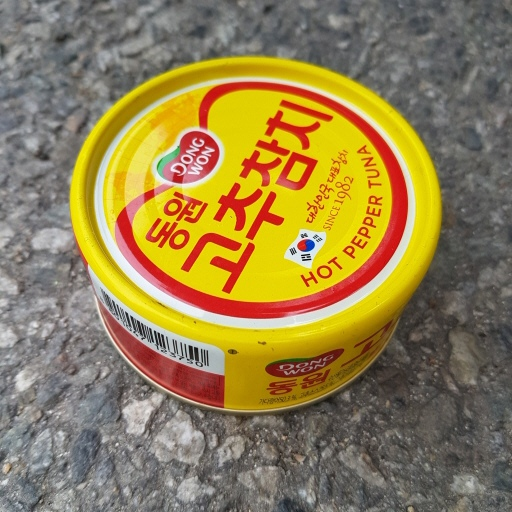Metal_1: (68, 55, 448, 414)
